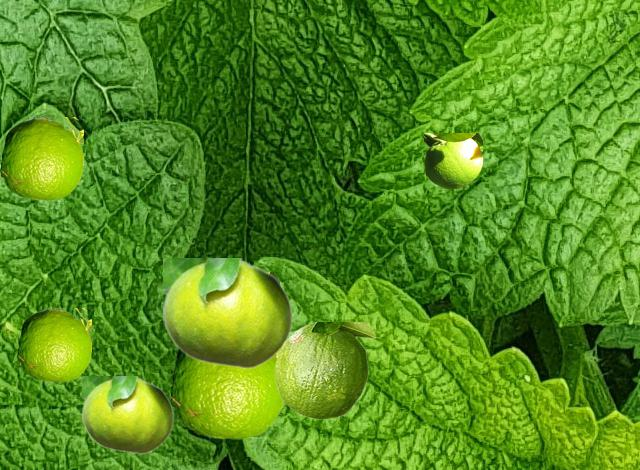dalandan: (163, 258, 292, 368), (171, 349, 284, 438), (274, 322, 375, 418), (82, 376, 173, 453), (1, 117, 82, 199), (18, 308, 90, 381), (424, 133, 481, 187)
